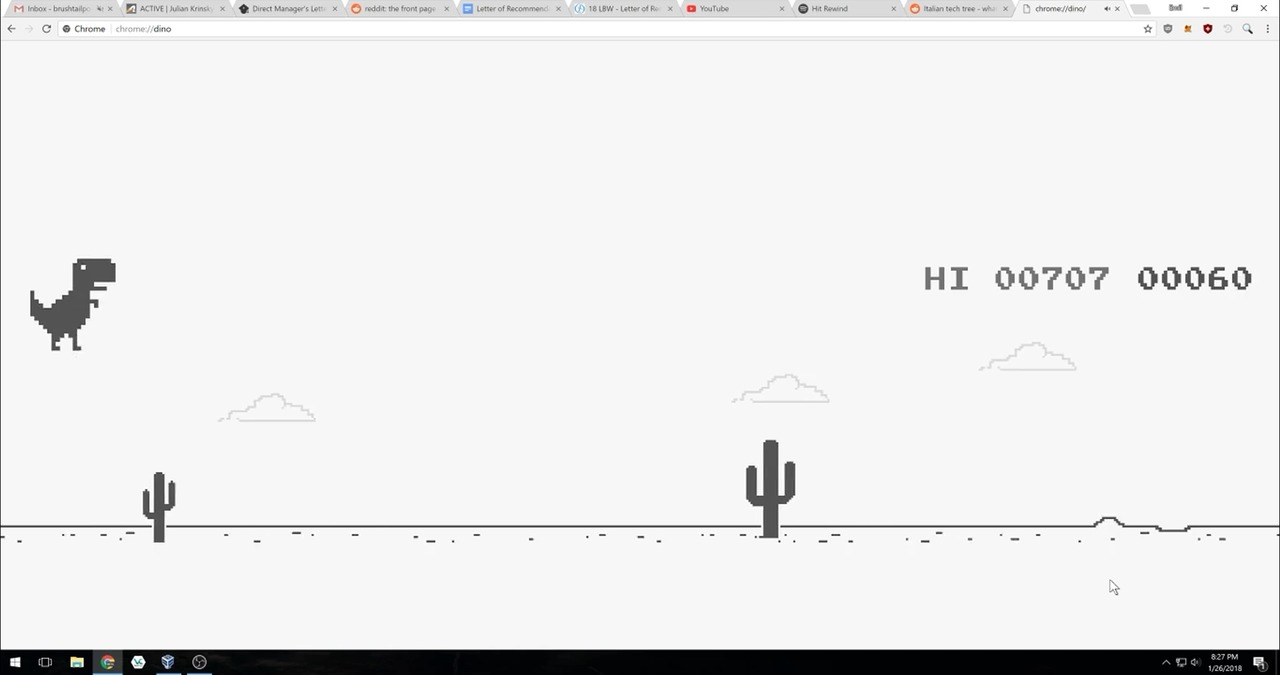cactus: (745, 438, 801, 540), (140, 466, 179, 545)
dinosaur: (26, 257, 118, 352)
